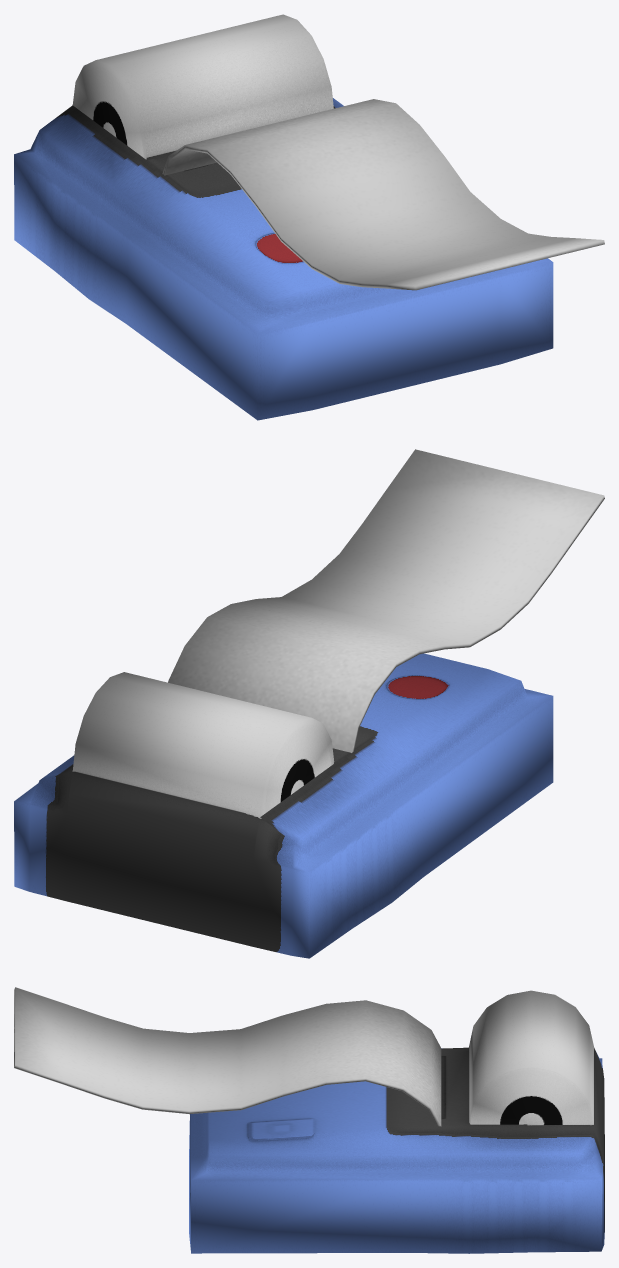
File: ld36-accessories-printer.fbx
The picture shows the model from 3 angles, top to bottom: view 1: azimuth 30°, elevation 25°; view 2: azimuth 150°, elevation 25°; view 3: azimuth 270°, elevation 25°; orthographic projection. The views are drawn at different scales.
Visible parts, largest first — view 1: GameBox-Printer; view 2: GameBox-Printer; view 3: GameBox-Printer.
Part boxes in pixels (<box>): GameBox-Printer: <box>14,14,604,420</box>; GameBox-Printer: <box>14,449,604,958</box>; GameBox-Printer: <box>14,987,604,1253</box>.
Bounding box in the file's own units: 159 × 100 × 318.
